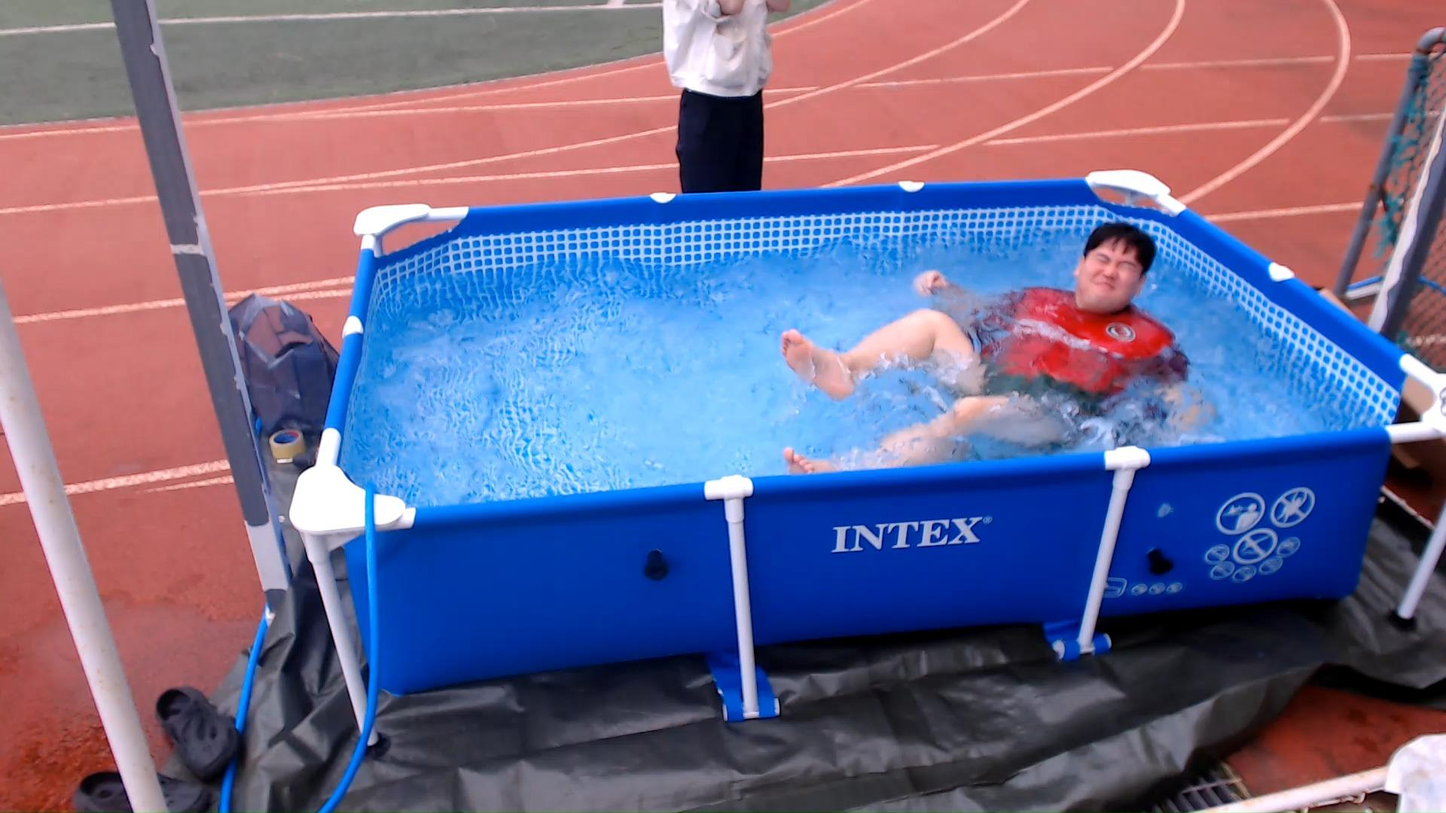Drowning: (765, 199, 1246, 490)
Person-out-of-water: (648, 0, 799, 190)
